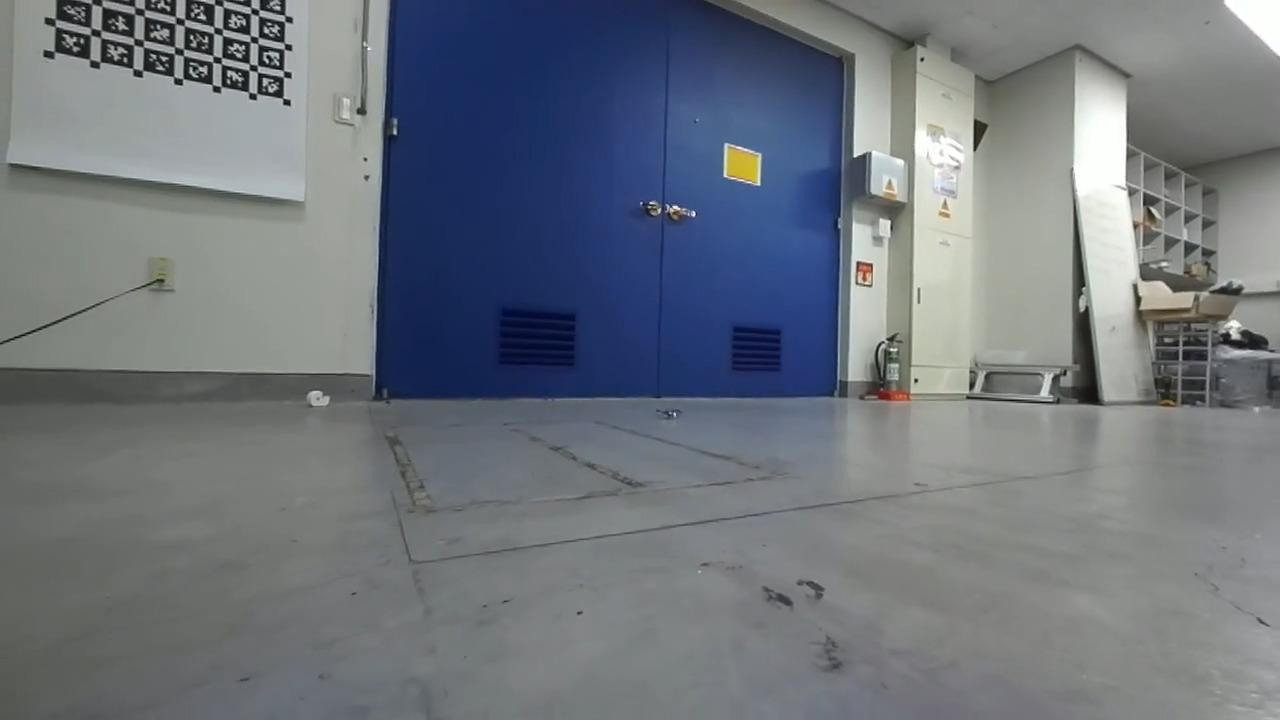crazyflie: (645, 398, 693, 427)
